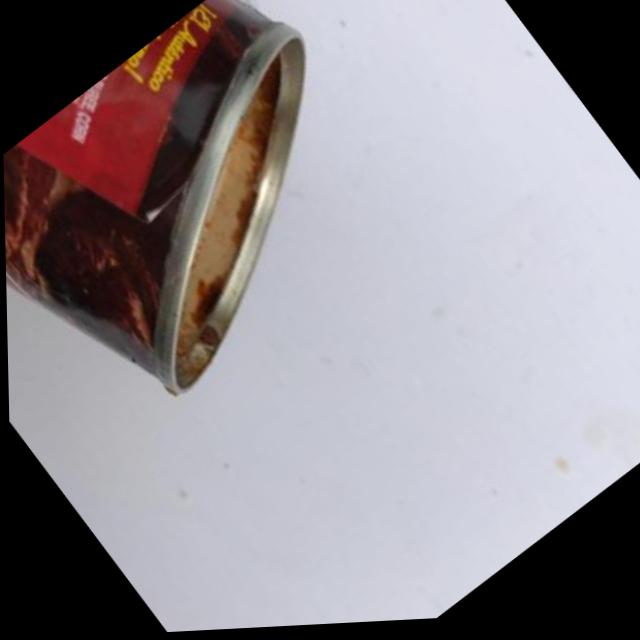metal: (0, 0, 302, 391)
